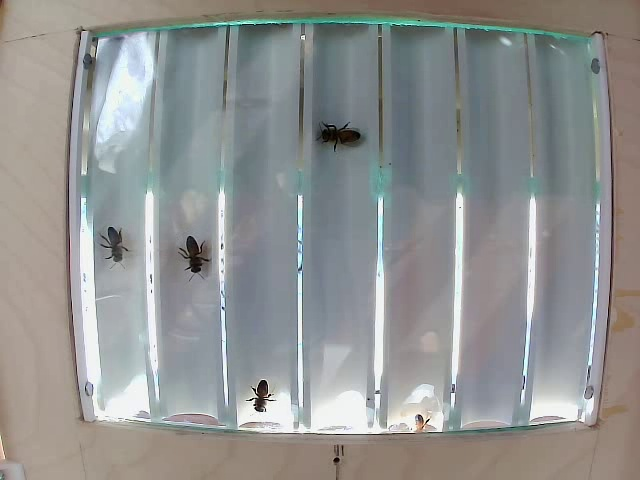bee: (176, 222, 228, 280), (85, 218, 139, 264), (319, 104, 361, 151), (249, 384, 287, 415)
